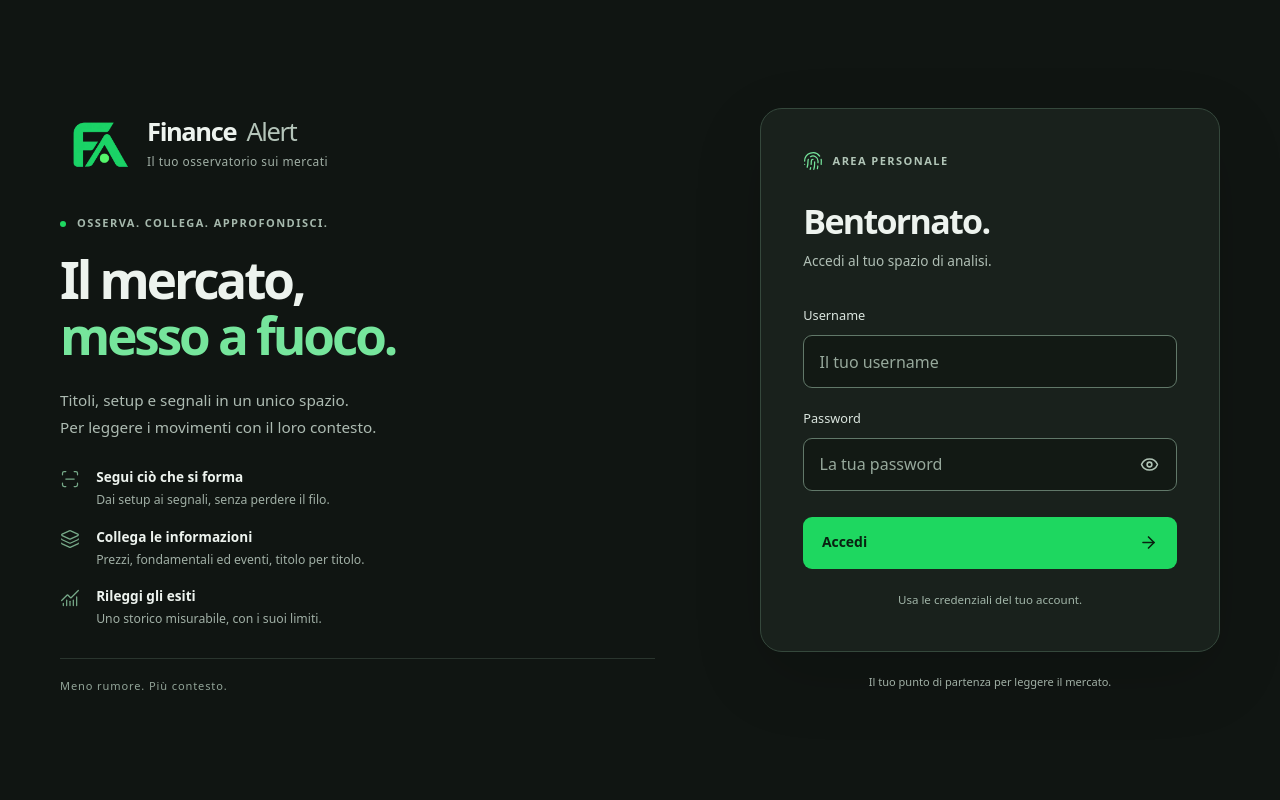
Scenario: login interactions › keeps the form usable and announces an HTTP 401 failure
The image size is (1280, 800).
Type "demo" into the field labelled "Username" at (990, 362), box [803,335,1177,388]
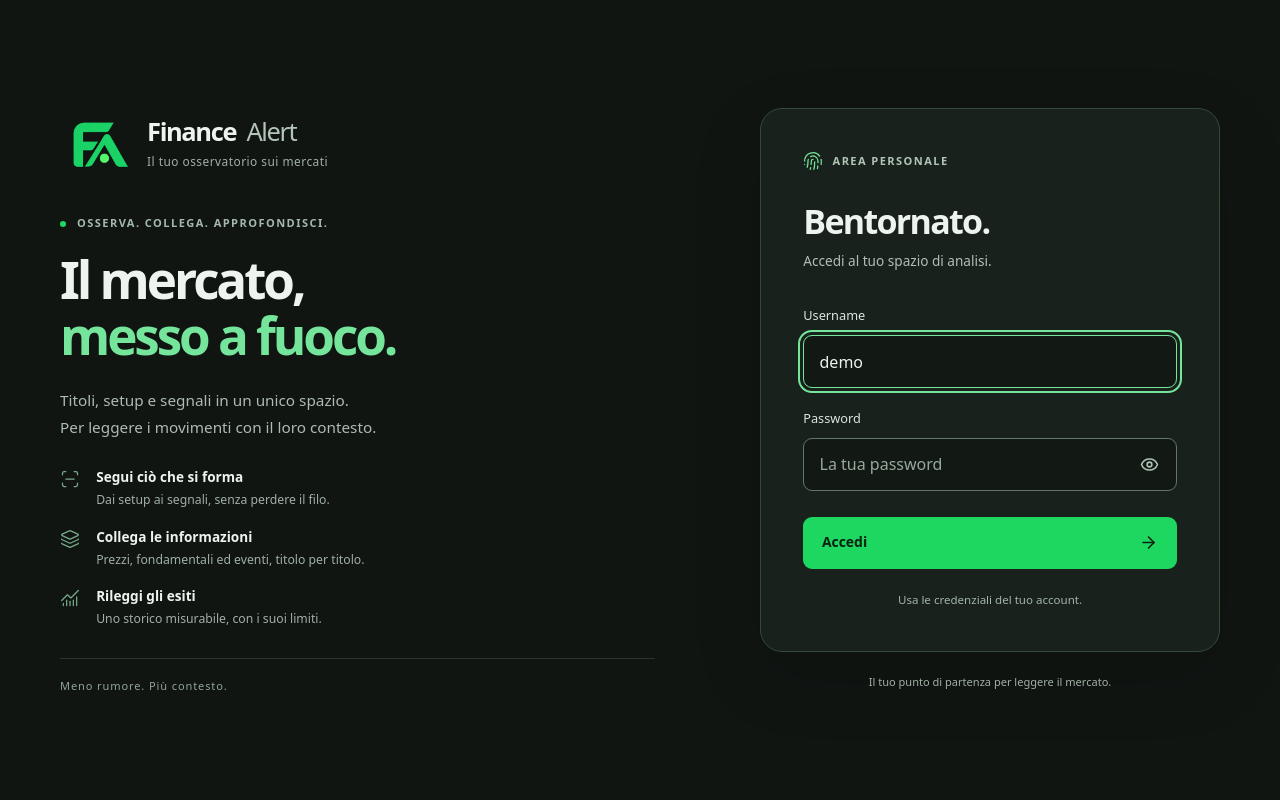
Type "local-test-password" into the password field labelled "Password" at (990, 464), box [803,438,1177,491]
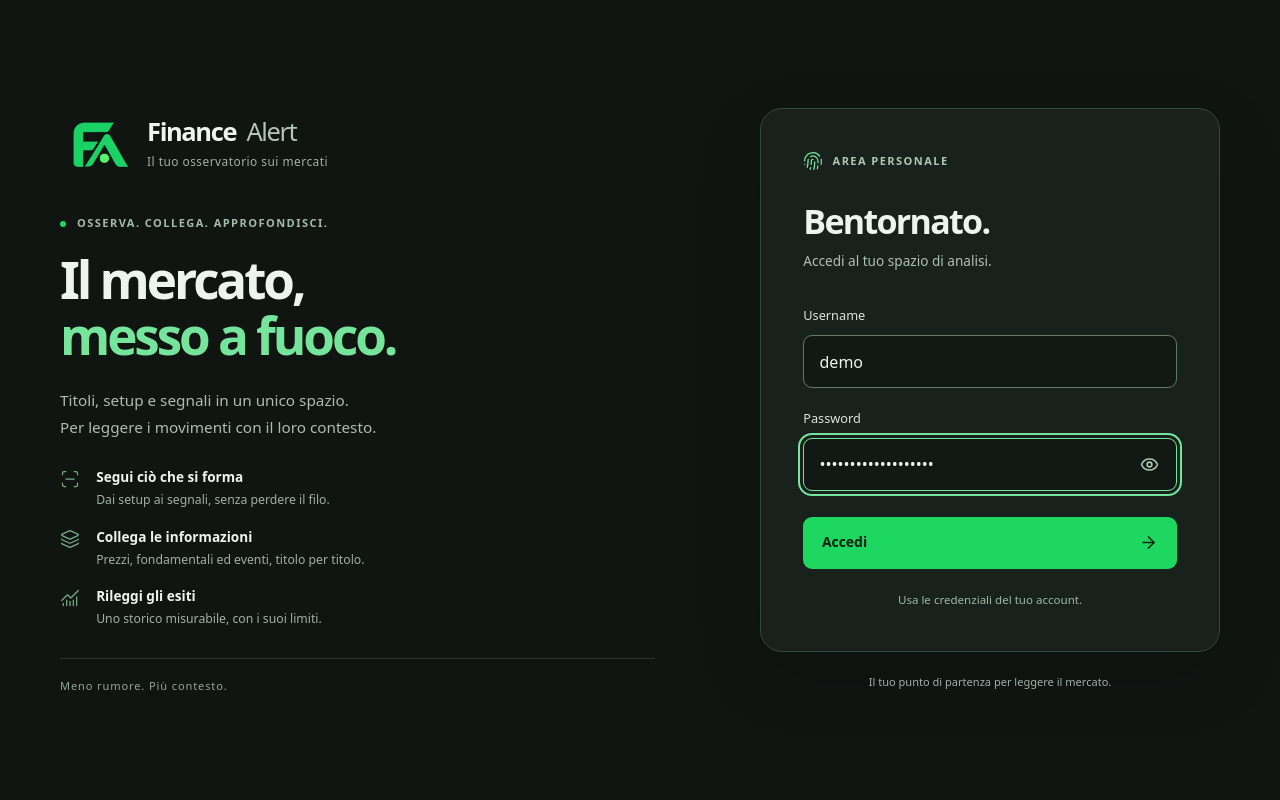
Click the button "Accedi" at (845, 542), box [803,516,1177,568]
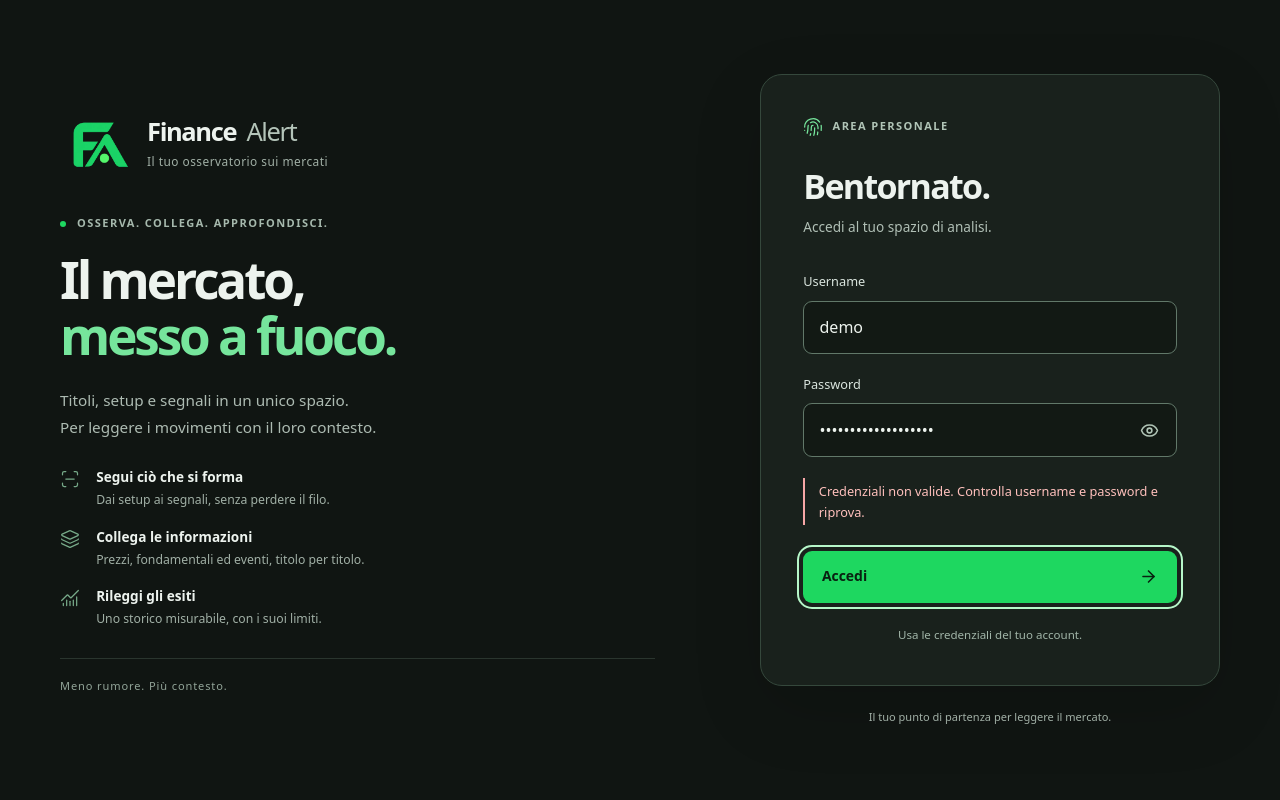
Expected: the message does not show "private server detail", [803,478,1177,526]
Expected: the message shows "Credenziali non valide", [819,482,1158,521]
